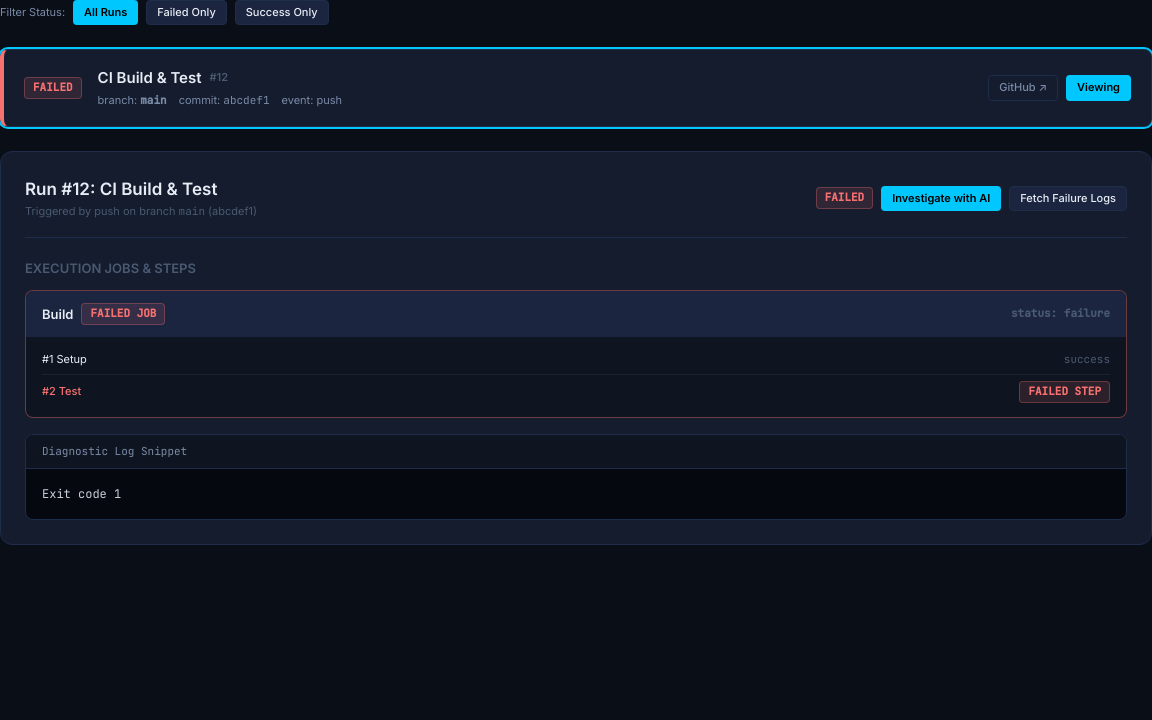
Test: WorkflowRunsView "Investigate with AI" Tests › handles AI provider unavailable error gracefully
Click the button with aria-label "investigate failure with ai".
click(941, 198)  # box [881,186,1001,211]
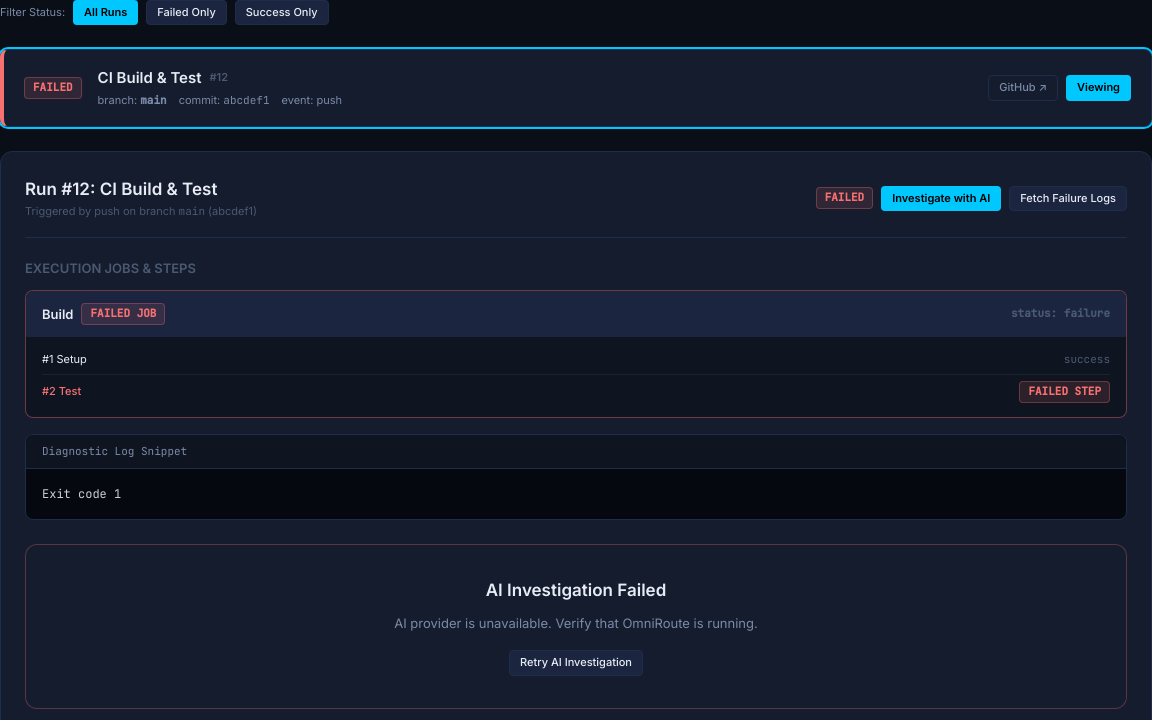
Result: the text "AI Investigation Failed" is shown at [486,580,666,600]
Result: the text "AI provider is unavailable. Verify that OmniRoute is running." is shown at [371,612,781,633]
Result: the button "Retry AI Investigation" is shown at [509,650,643,676]
